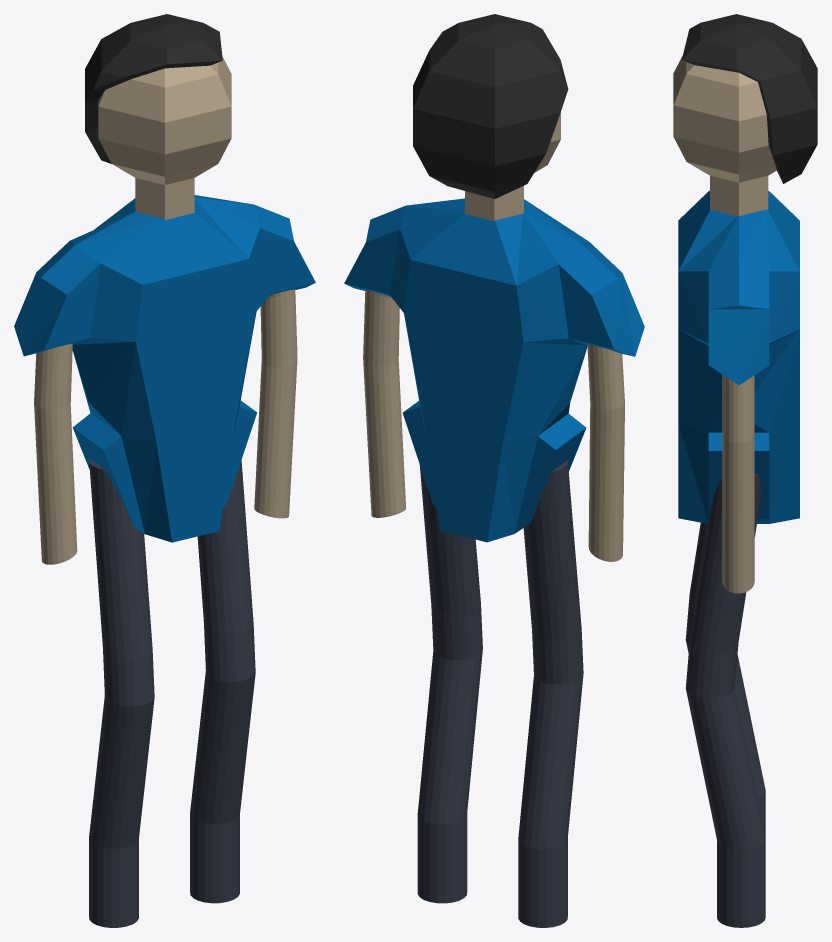
File: SM_Baggage_man_01.fbx
The picture shows the model from 3 angles, left to right: view 1: azimuth 30°, elevation 25°; view 2: azimuth 150°, elevation 25°; view 3: azimuth 270°, elevation 25°; orthographic projection.
Visible parts, largest first — view 1: polySurface2; view 2: polySurface2; view 3: polySurface2.
Boxes of the visible parts, x1,y1,x2,y2 form: polySurface2: (14, 14, 315, 927); polySurface2: (344, 14, 644, 927); polySurface2: (673, 14, 817, 927).
Bounding box in the file's own units: 0.7072 × 2.11 × 0.3173.
